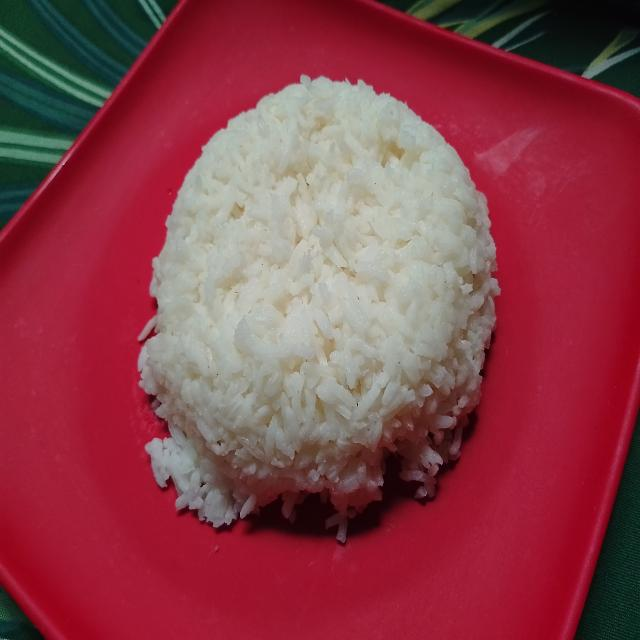Chicken -Chicken Inasal-: (144, 69, 502, 510)
